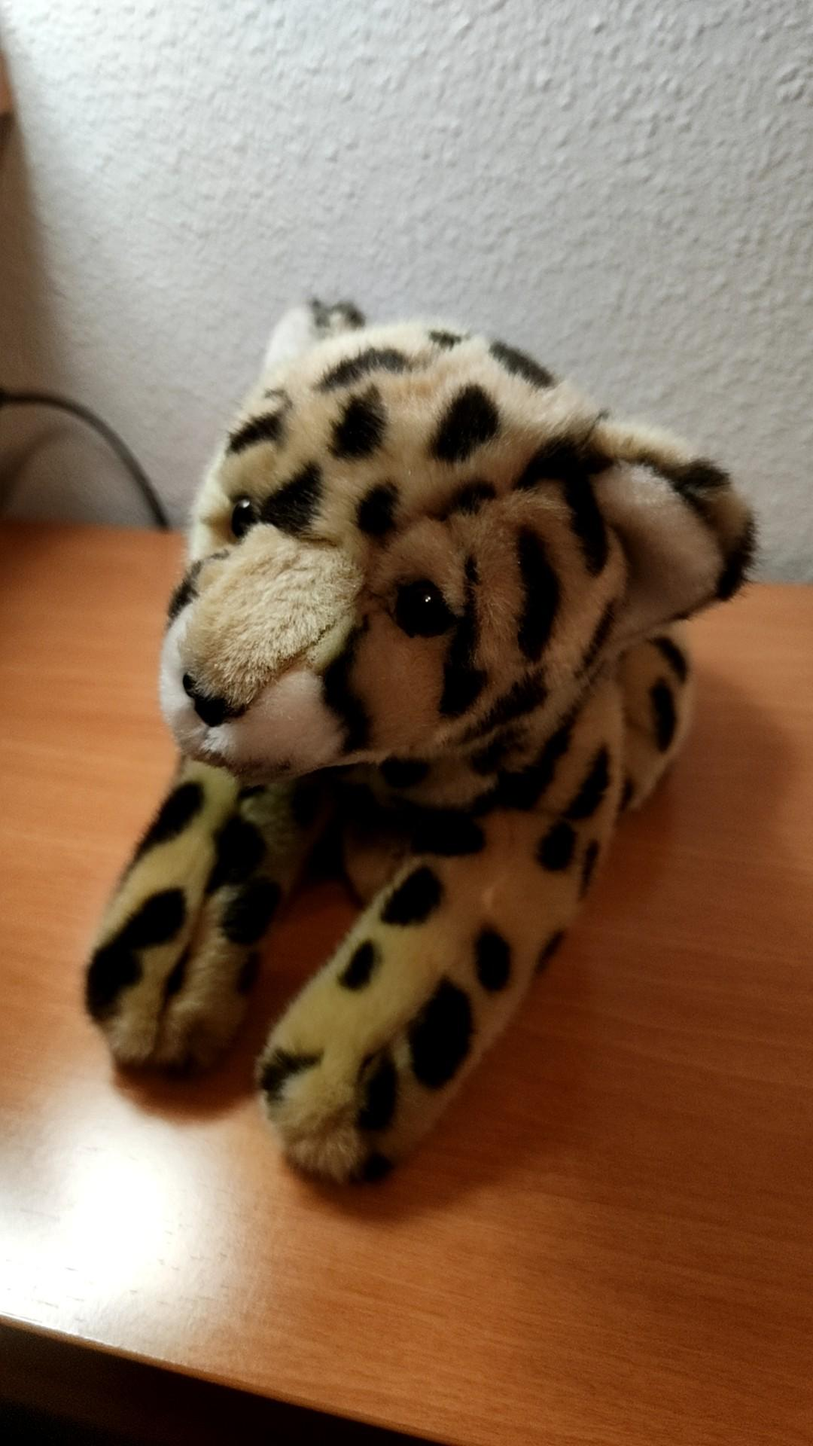toy: (86, 304, 755, 1182)
